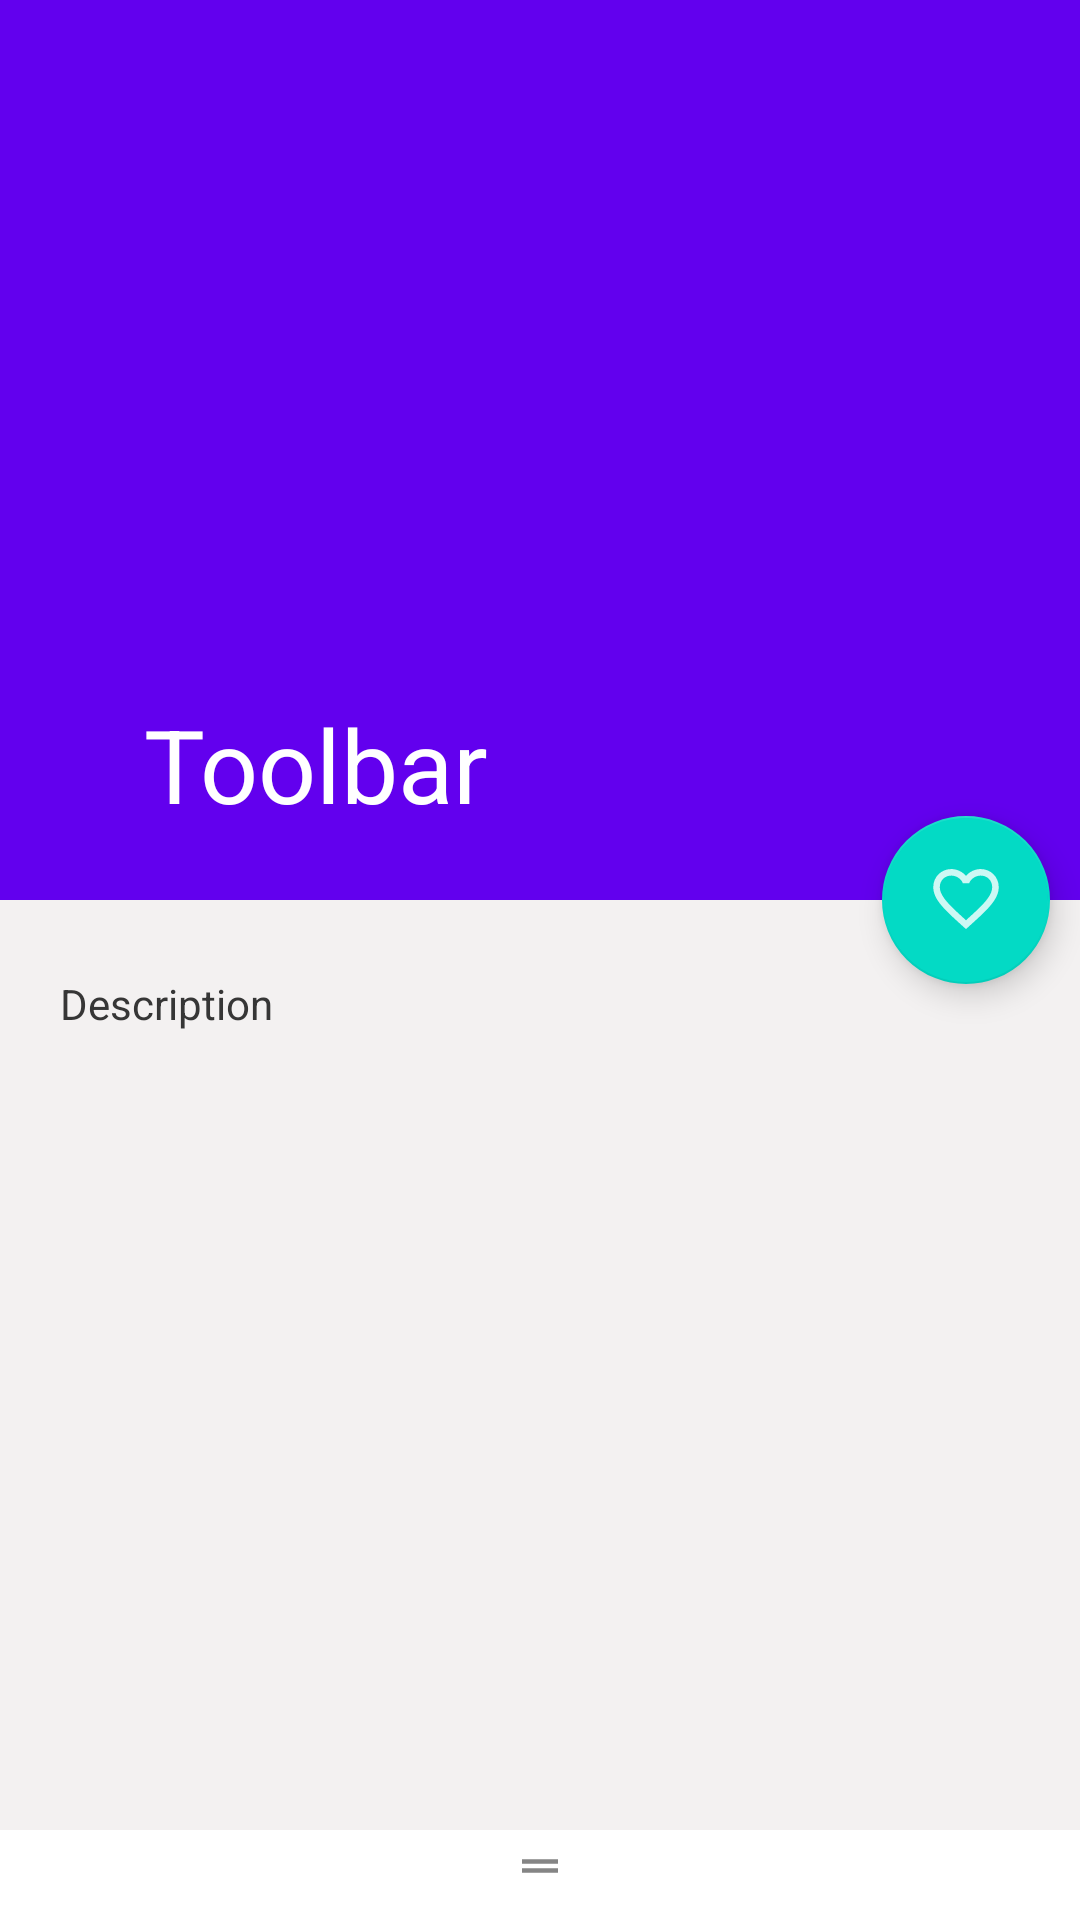

Point at icon controls on the screen. Image size 1080×1920, points as (x=x, y=y).
favorit border: (x=966, y=900)
handler: (x=540, y=1866)
